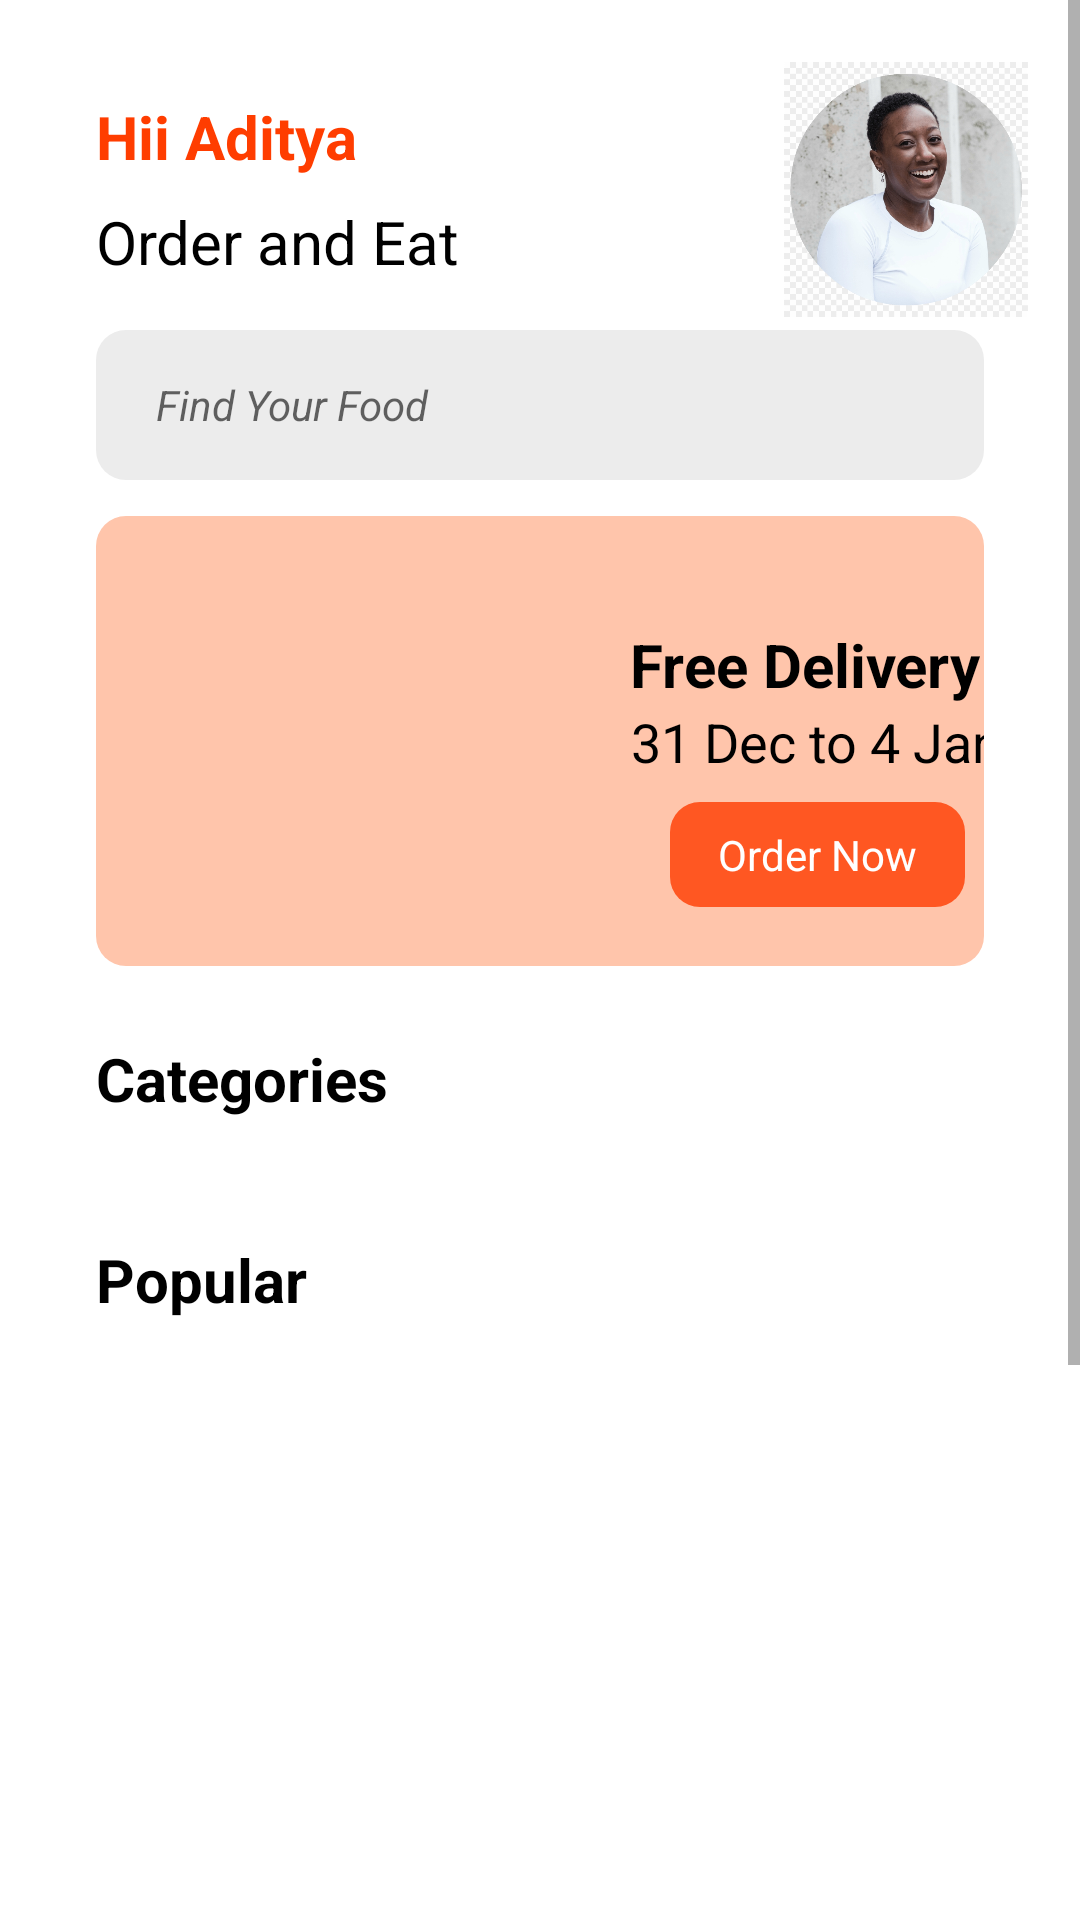

Icon click points for this 1080 × 1920 phone screenshot, format (x,y):
circlemage: (906,189)
